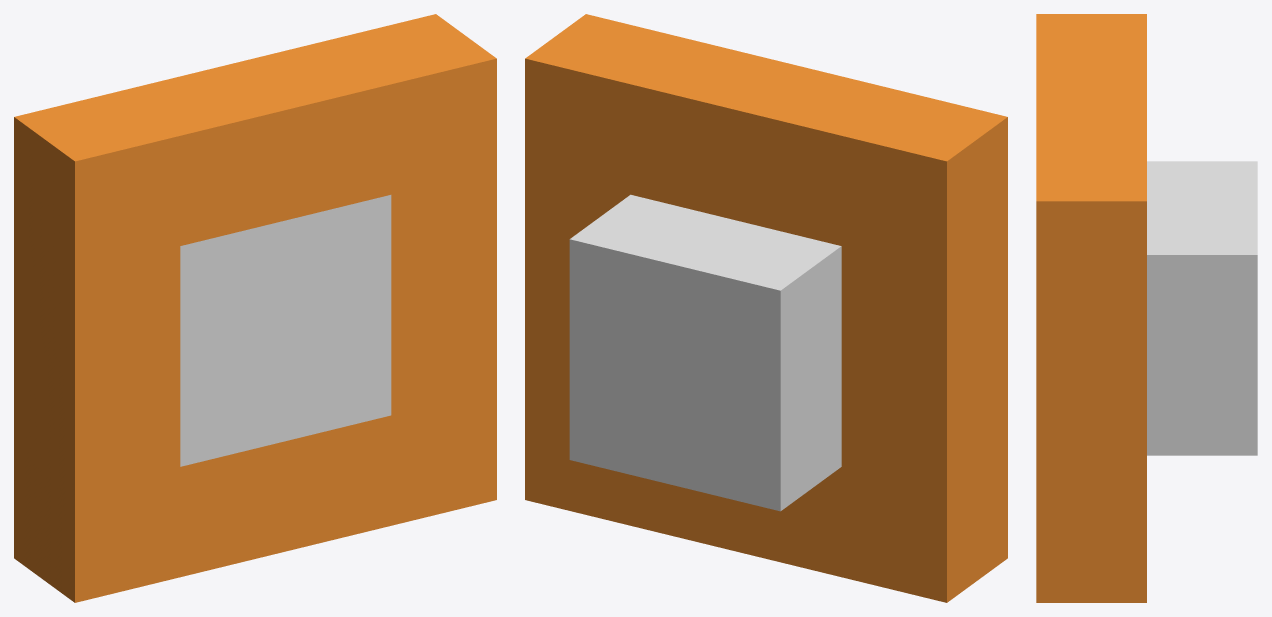
File: pracGenny-12-RShoulder.obj
The picture shows the model from 3 angles, left to right: view 1: azimuth 30°, elevation 25°; view 2: azimuth 150°, elevation 25°; view 3: azimuth 270°, elevation 25°; orthographic projection. The views are drawn at different scales.
Parts seen in each view (by area): view 1: RShoulder; view 2: RShoulder; view 3: RShoulder.
Part boxes in pixels (x1,y1,x2,y2): RShoulder: [14, 14, 496, 602]; RShoulder: [525, 14, 1007, 602]; RShoulder: [1036, 14, 1257, 602].
Bounding box in the file's own units: 0.4 × 0.4 × 0.2.
Materials: 1 (1 with a texture image).
